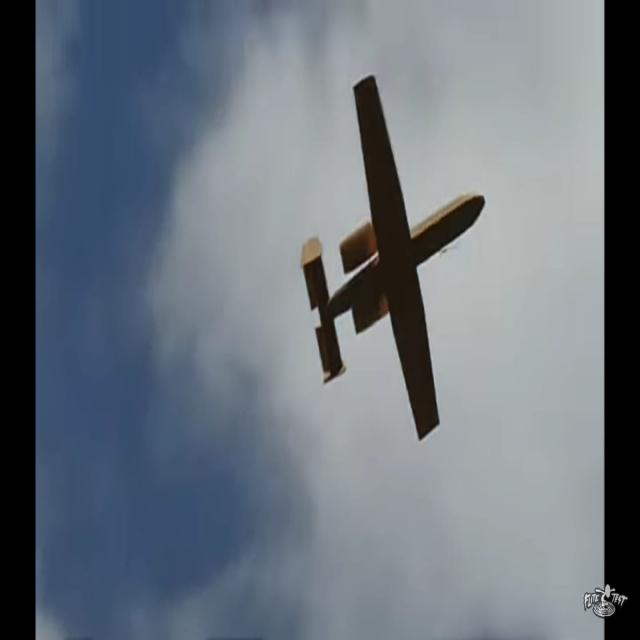iha: (292, 71, 480, 444)
